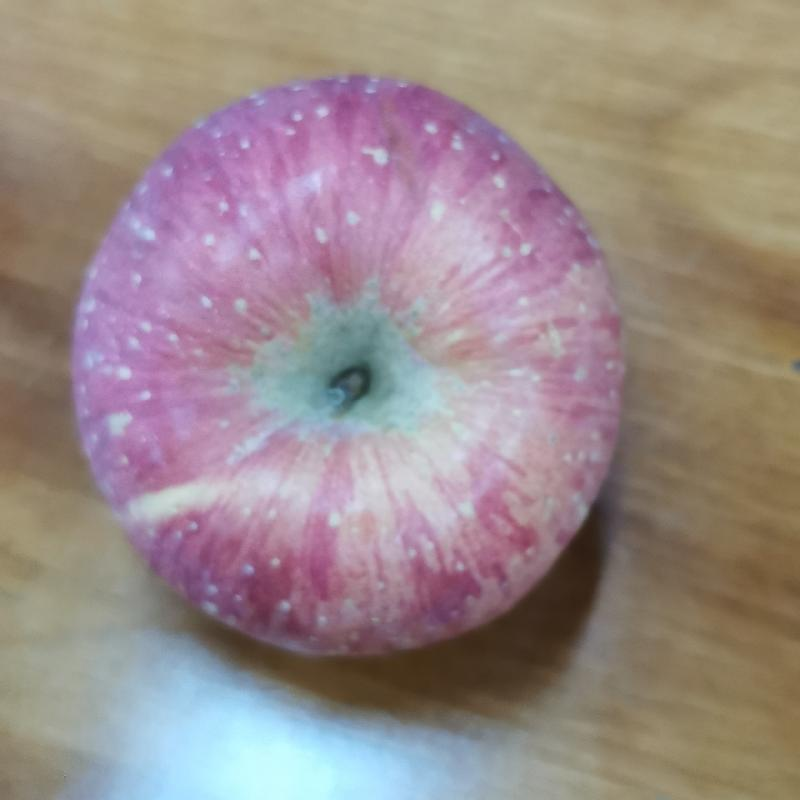apples: (72, 70, 634, 665)
